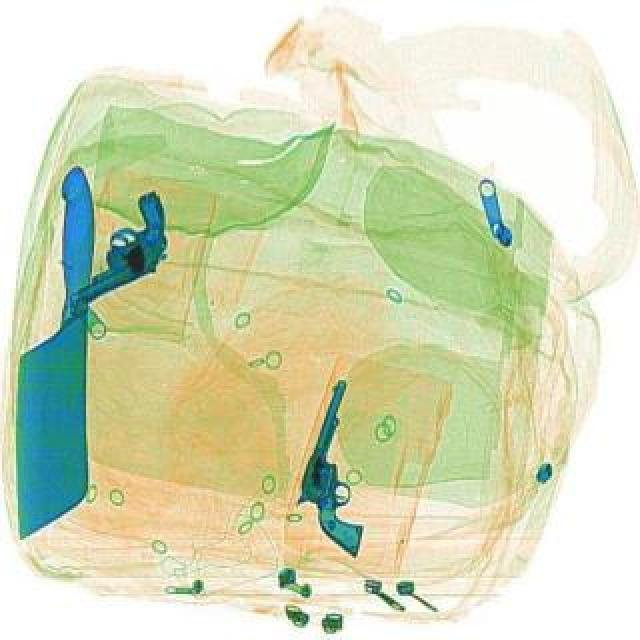gun: (278, 376, 412, 556), (48, 186, 192, 304)
knife: (12, 162, 92, 538)
